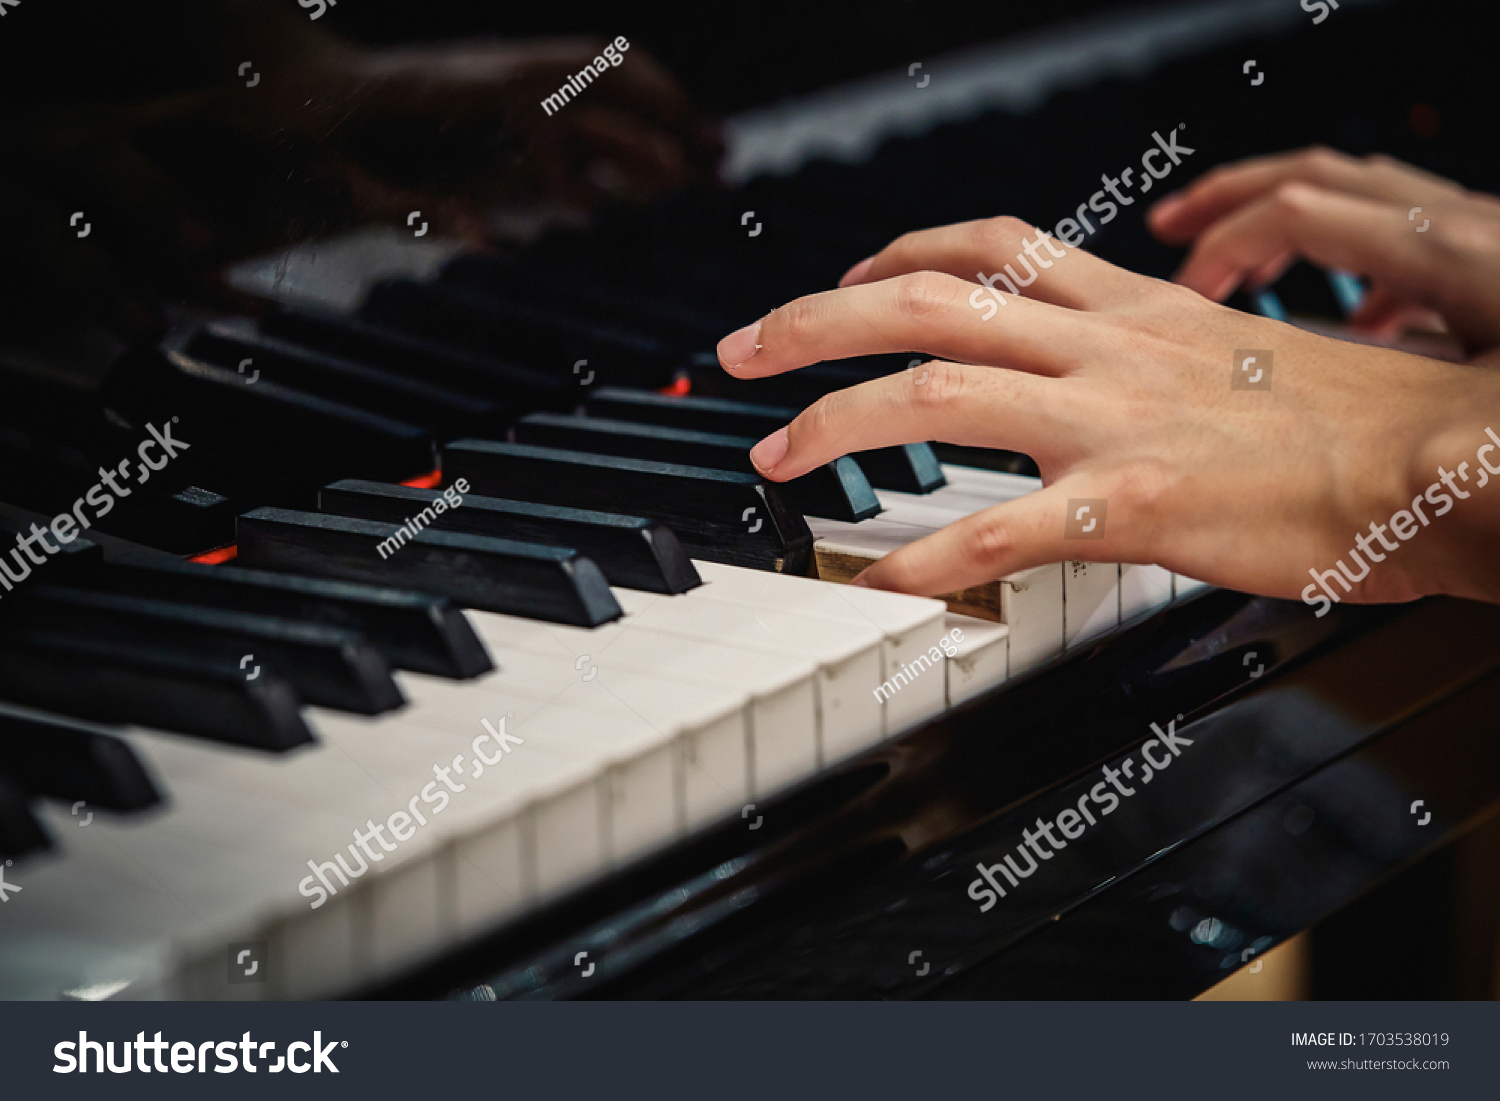Piano: (1, 158, 1422, 976)
